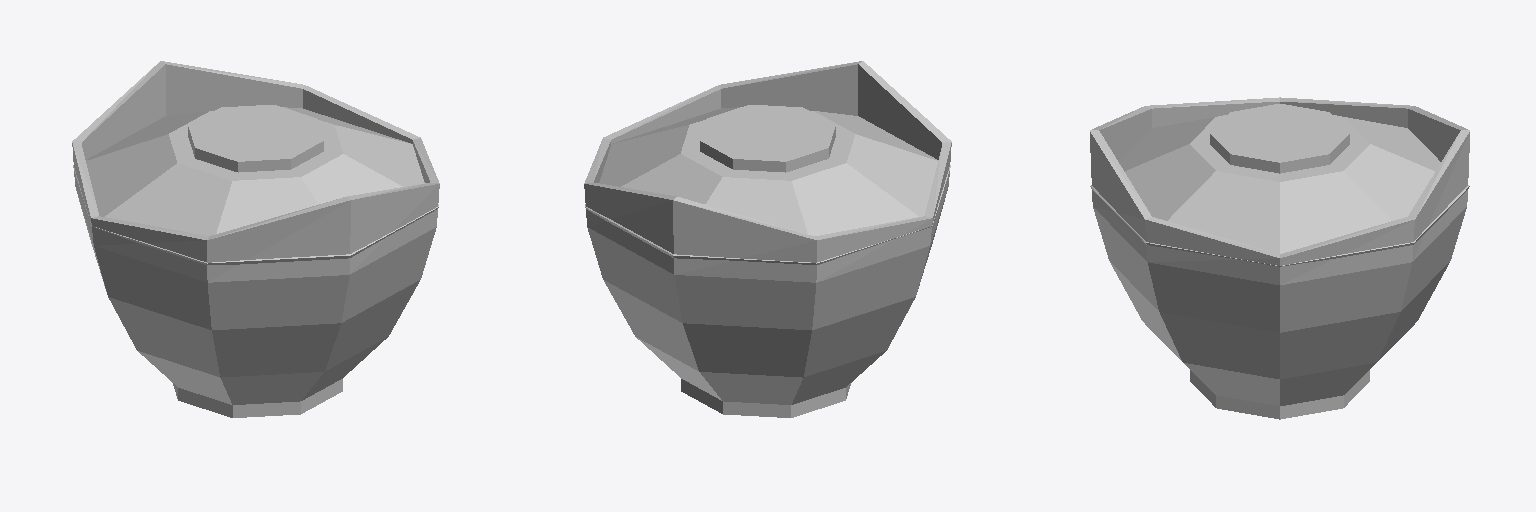
The model's file is serving_bowl_1_002.obj.
3 views of the same model, side by side, from view 1: azimuth 30°, elevation 25°; view 2: azimuth 150°, elevation 25°; view 3: azimuth 270°, elevation 25° (orthographic).
Visible parts, largest first — view 1: serving_bowl_1.002_Cylinder.124, serving_bowl_3_lid.001_Cylinder.125; view 2: serving_bowl_1.002_Cylinder.124, serving_bowl_3_lid.001_Cylinder.125; view 3: serving_bowl_1.002_Cylinder.124, serving_bowl_3_lid.001_Cylinder.125.
Boxes of the visible parts, x1=… form: serving_bowl_1.002_Cylinder.124: x1=72, y1=61, x2=439, y2=417; serving_bowl_3_lid.001_Cylinder.125: x1=73, y1=105, x2=438, y2=264; serving_bowl_1.002_Cylinder.124: x1=584, y1=61, x2=951, y2=417; serving_bowl_3_lid.001_Cylinder.125: x1=585, y1=105, x2=950, y2=264; serving_bowl_1.002_Cylinder.124: x1=1090, y1=97, x2=1469, y2=419; serving_bowl_3_lid.001_Cylinder.125: x1=1090, y1=104, x2=1469, y2=266.
Size of the model in its own units: 2.3 by 1.67 by 2.3.